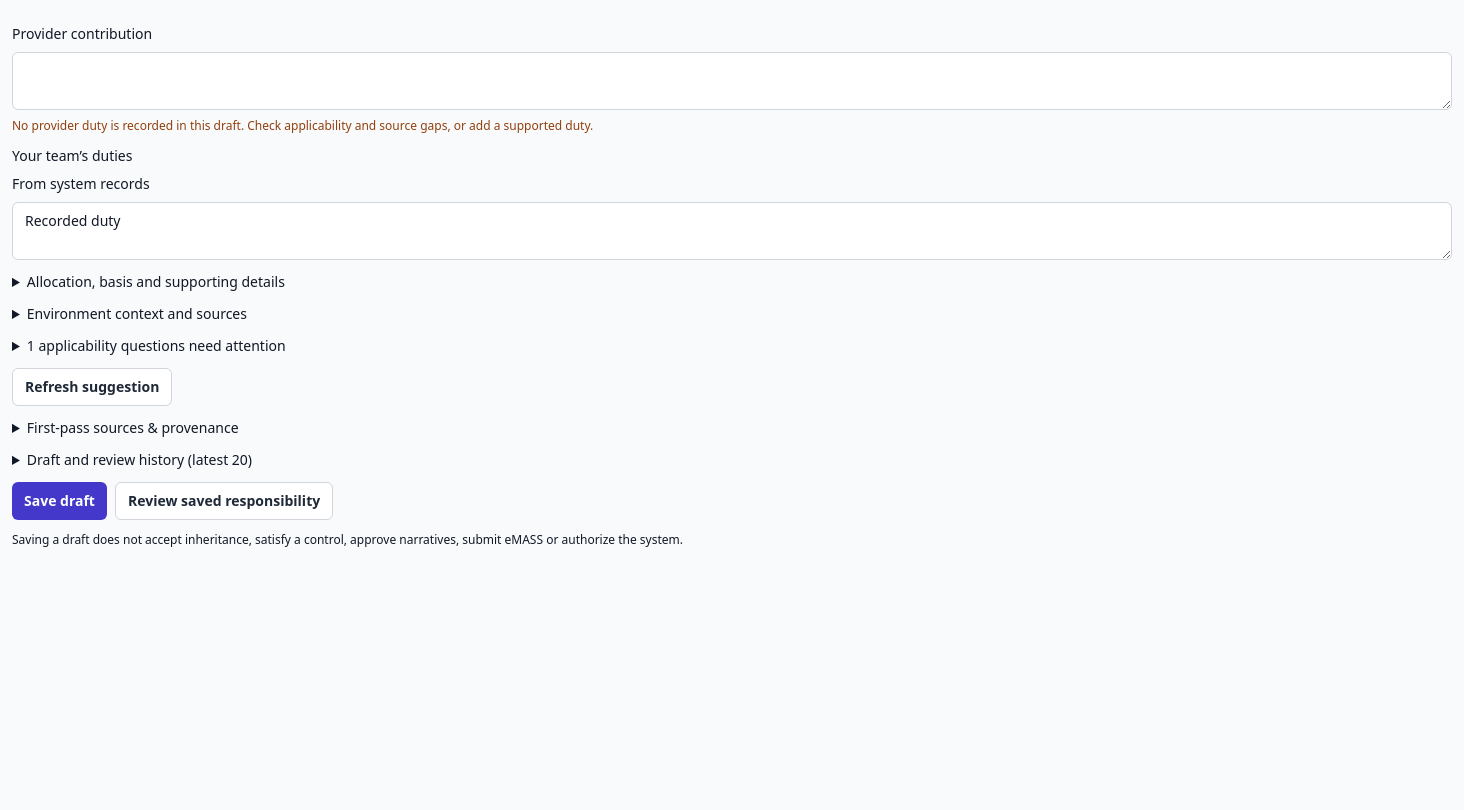
Test: upstream responsibility lifecycle in the applied panel › preserves edits and never reports success after a failed save
This screenshot has width=1464, height=810.
Click the button "Save draft": (60,501) [12,482,107,520]
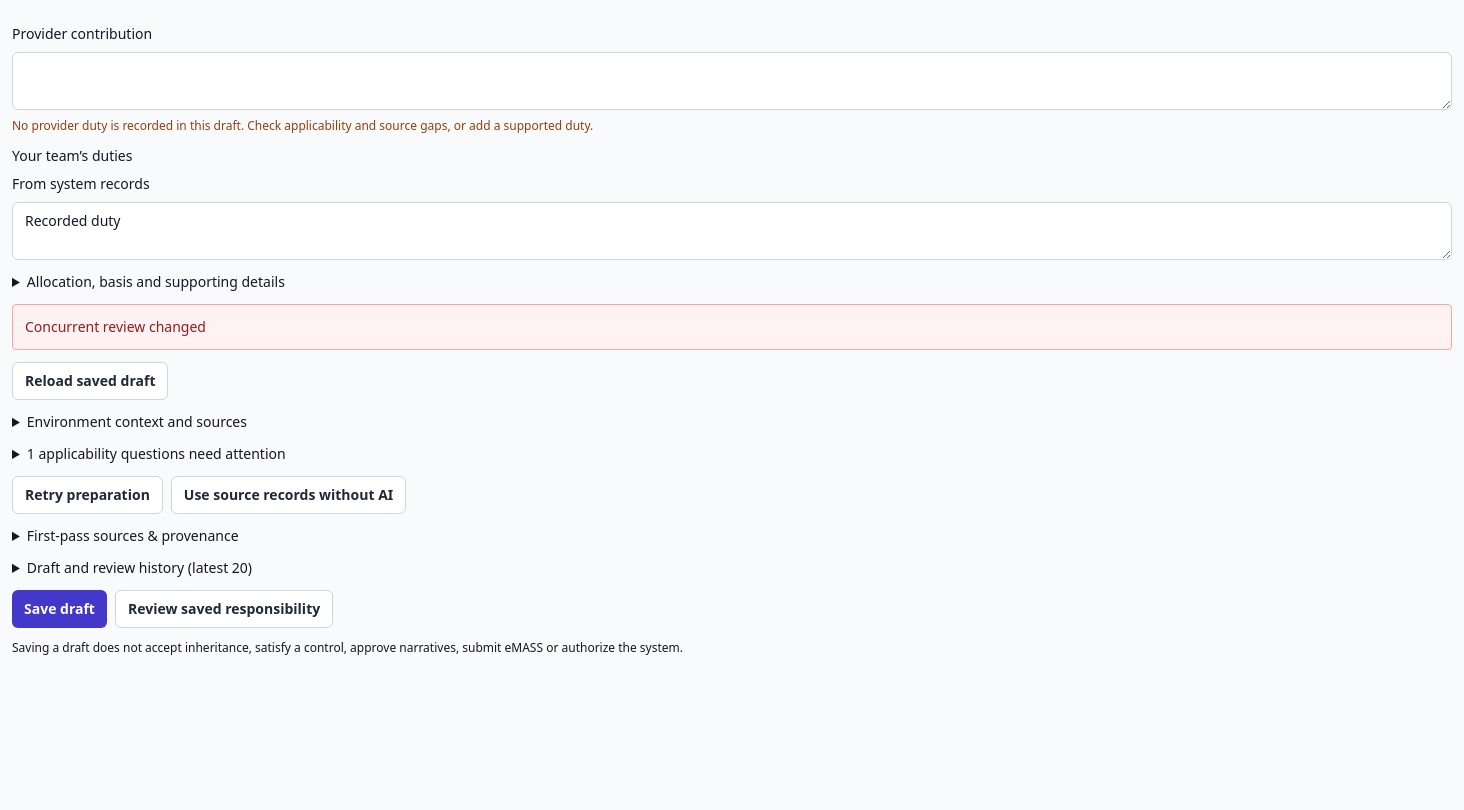
Expected: the message reads "Concurrent review changed", [25,317,206,336]
